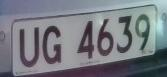3: (114, 12, 135, 56)
4: (74, 18, 97, 64)
6: (95, 17, 116, 60)
9: (133, 10, 152, 53)
G: (41, 20, 65, 70)
U: (18, 23, 42, 72)
